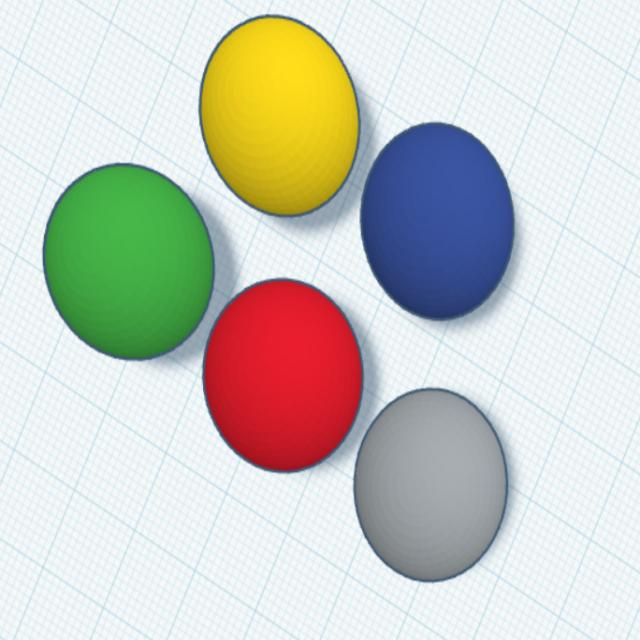sphere: (40, 160, 217, 364), (196, 12, 364, 222), (199, 276, 365, 477), (358, 119, 518, 325), (351, 384, 512, 586)
